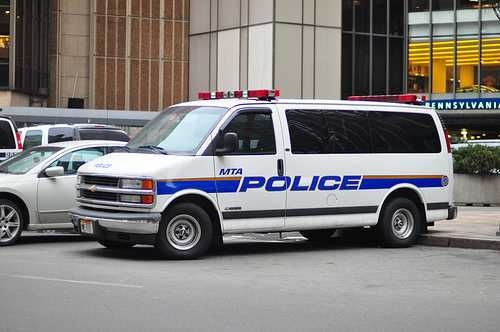Police Van: (69, 80, 461, 277)
